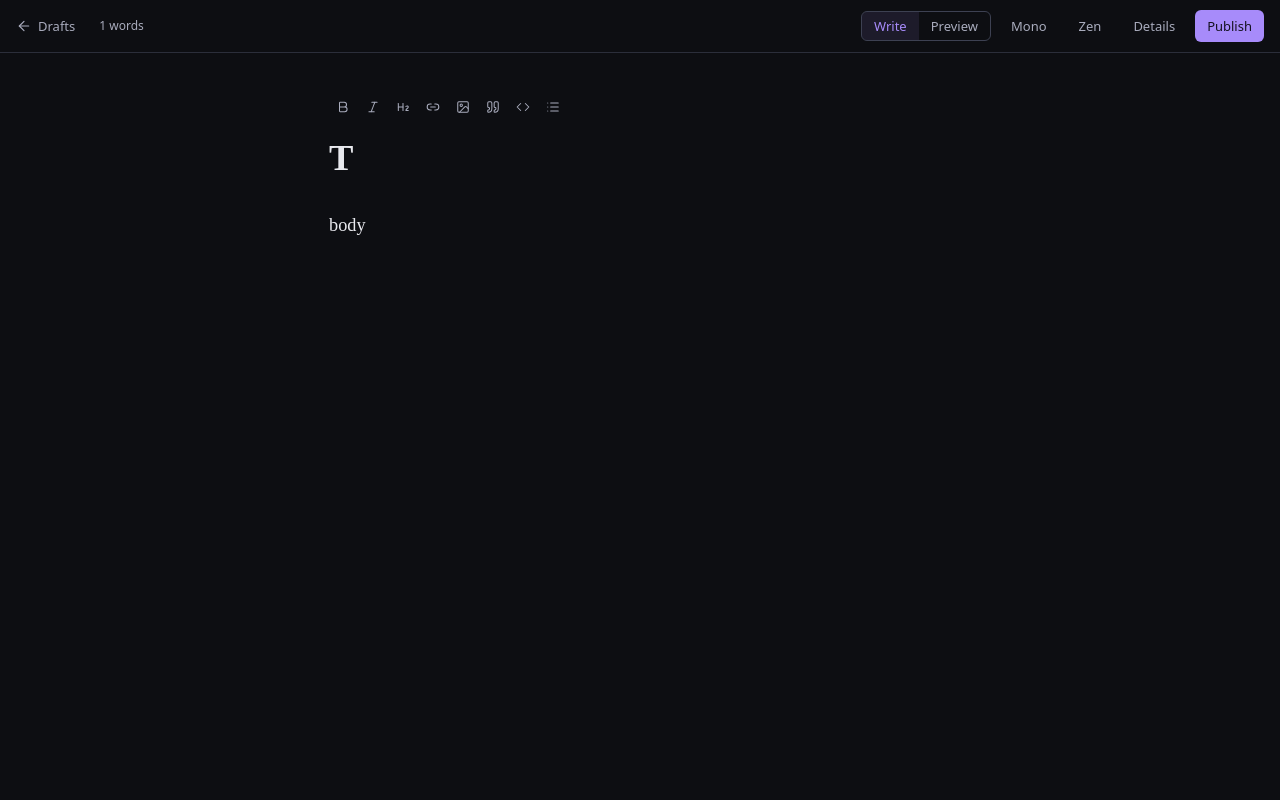
Test: ArticleEditor › the publish sheet › saves details without publishing
The width and height of the screenshot is (1280, 800).
Click the button "Details" at [1154, 26], box left=1121, top=10, right=1187, bottom=42
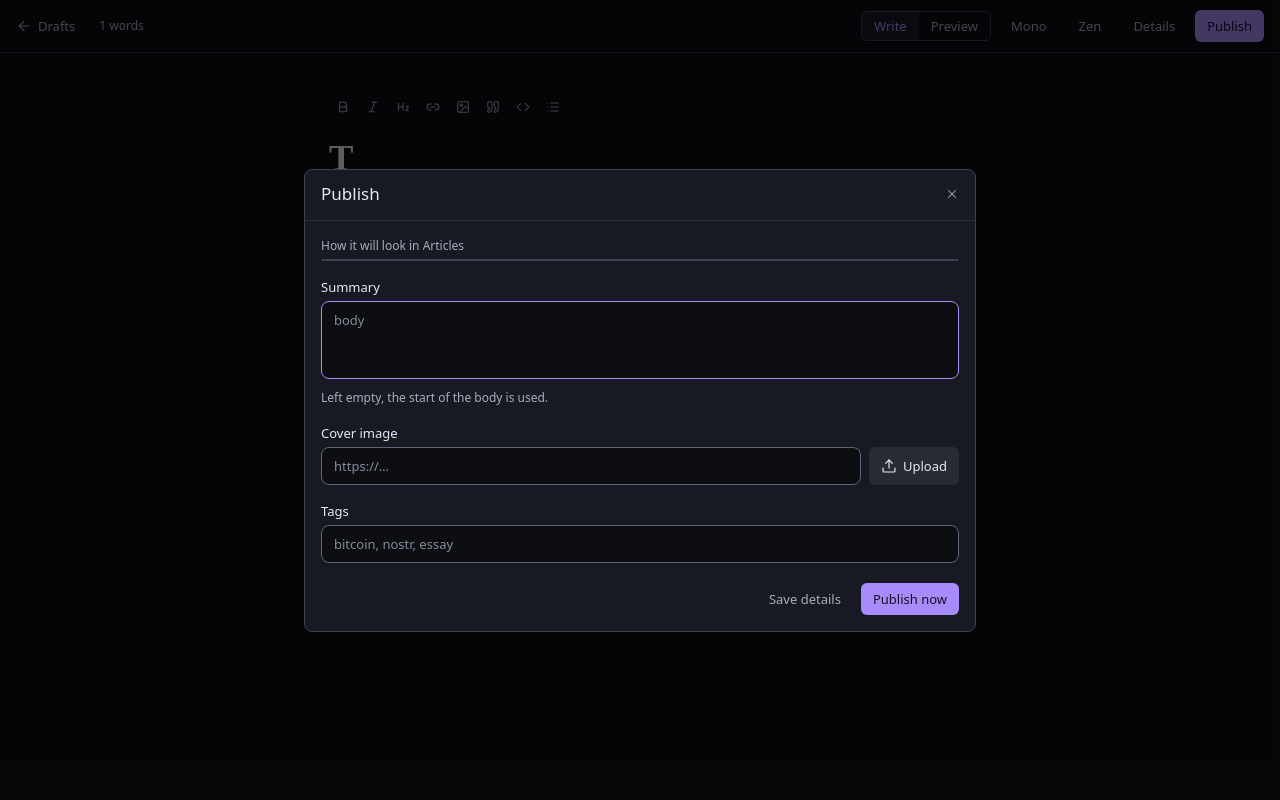
Type "a, b" into the field labelled "Tags" at [640, 544], box left=321, top=524, right=959, bottom=562
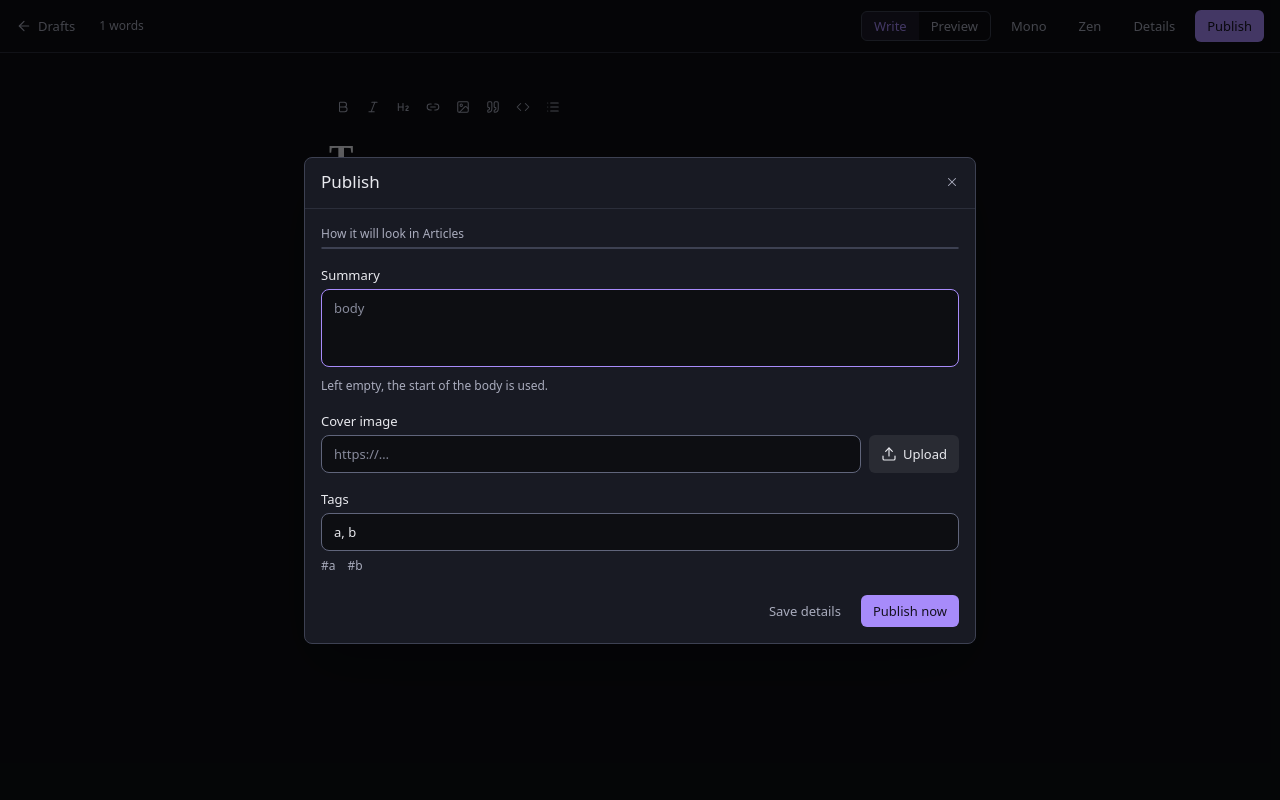
Click the button "Save details" at [805, 610], box left=757, top=594, right=853, bottom=626
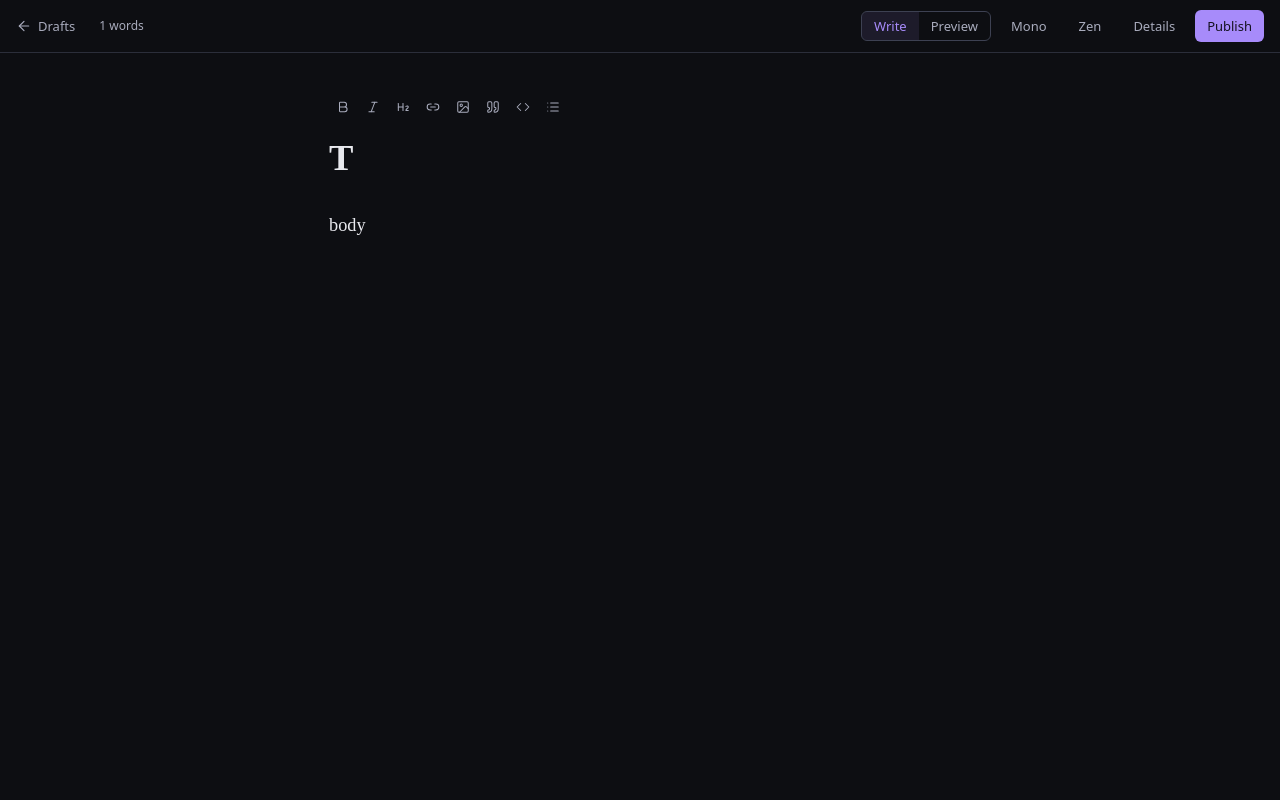
Check: the dialog is gone
